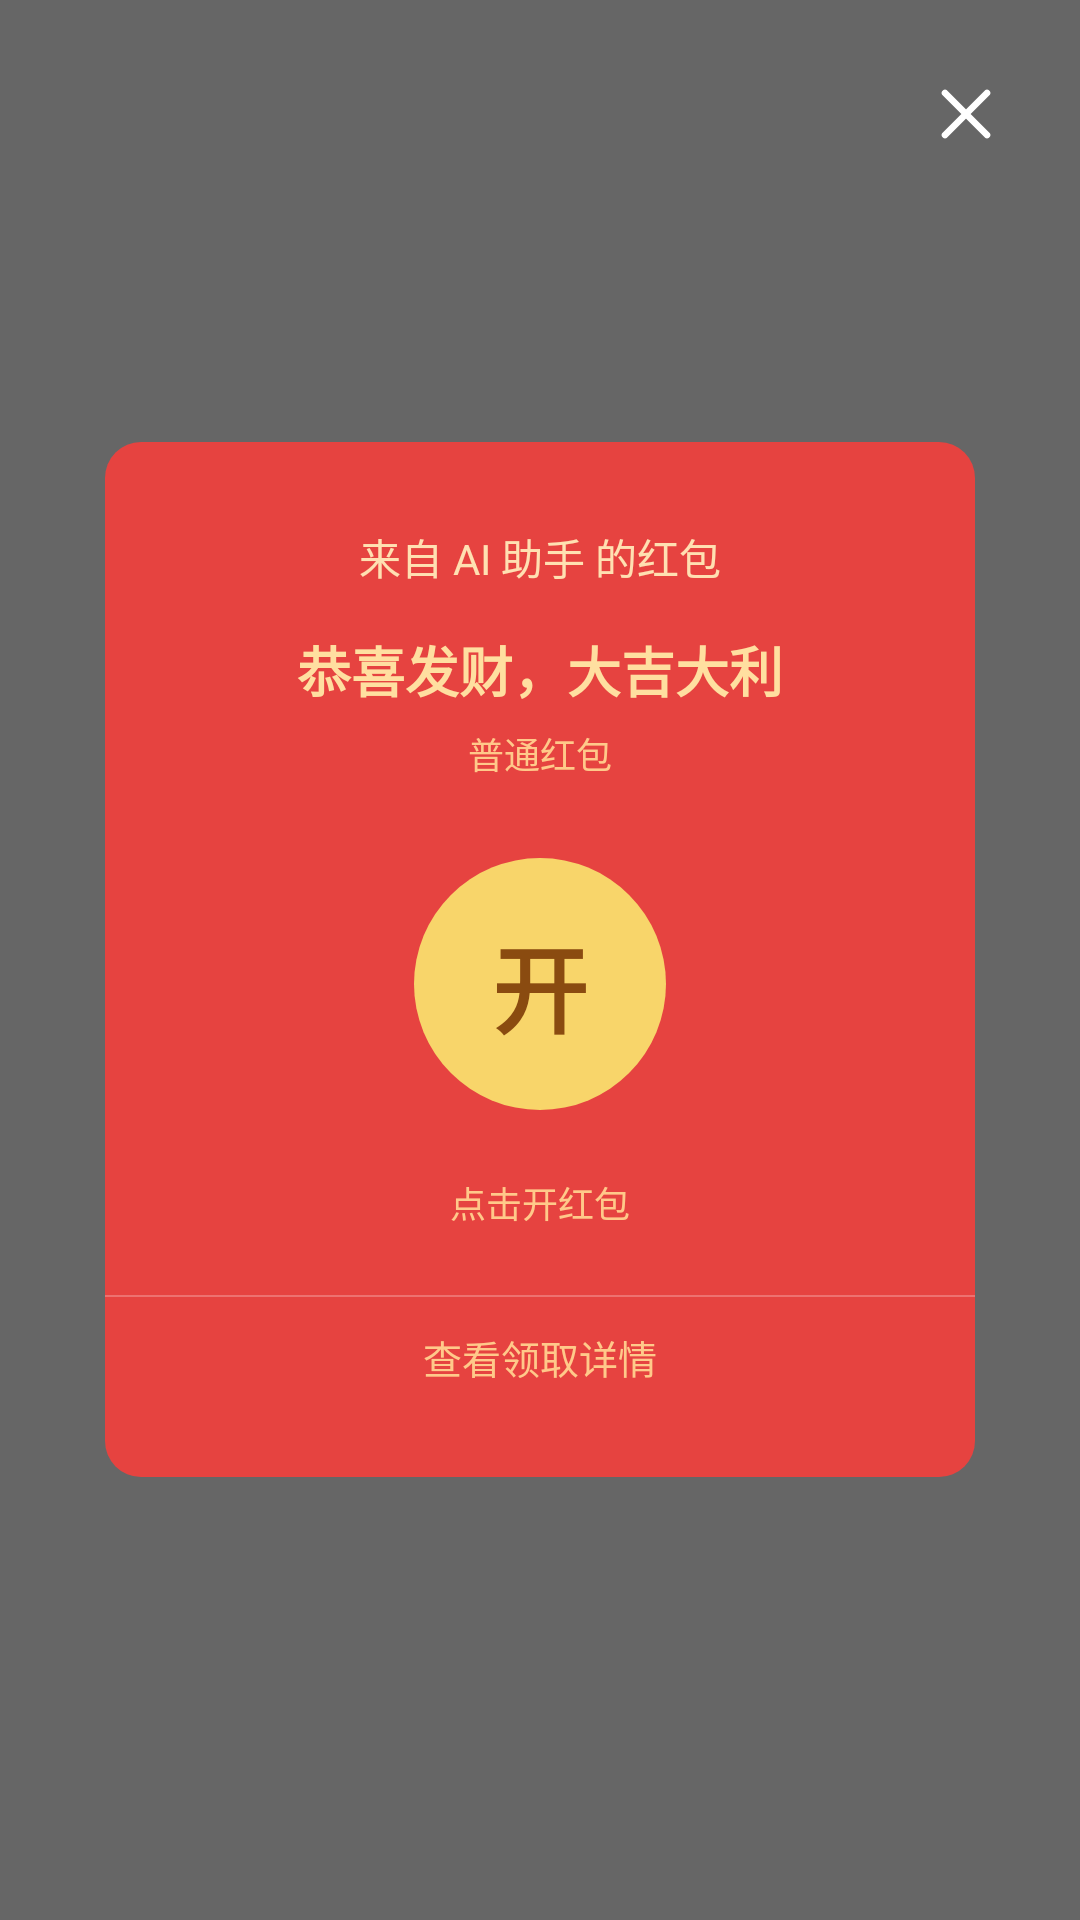

Named icons in this screenshot (1080px x 1920px) and their centers, (x=x, y=y):
close: (x=966, y=114)
